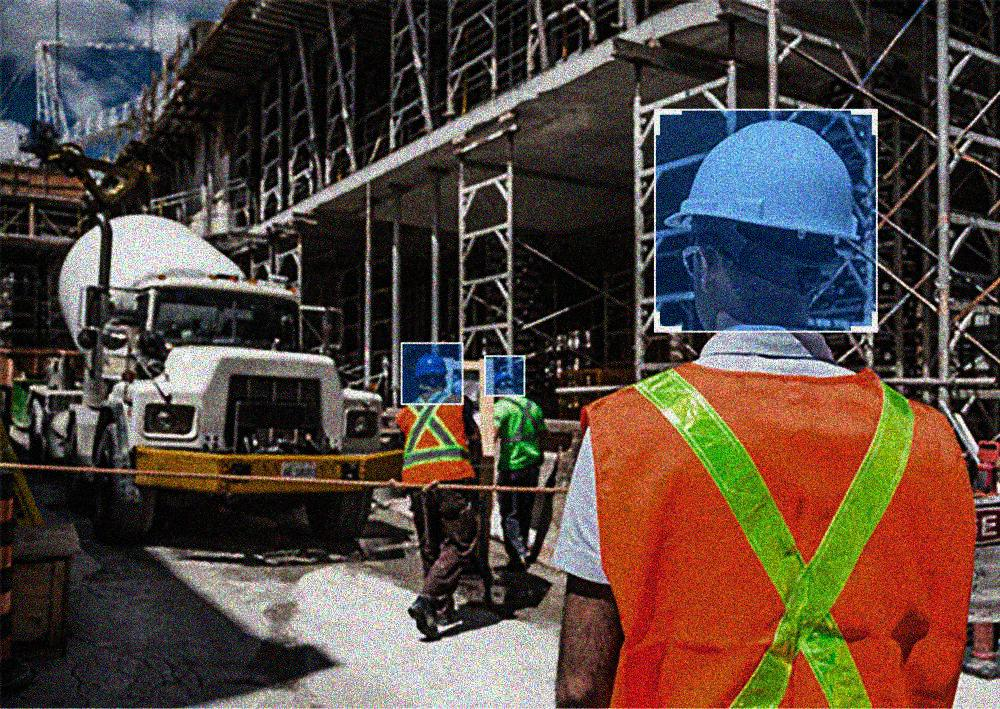helmet: (658, 115, 861, 329), (412, 351, 450, 398), (491, 366, 518, 394)
